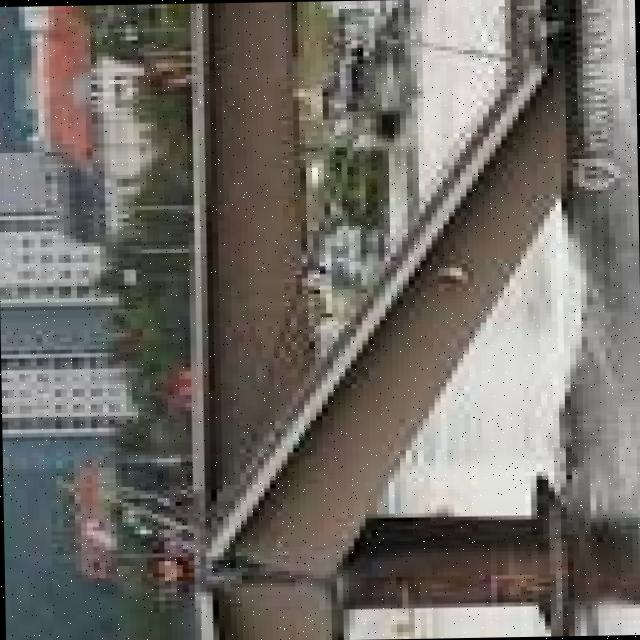bridge collapse: (83, 0, 640, 617)
